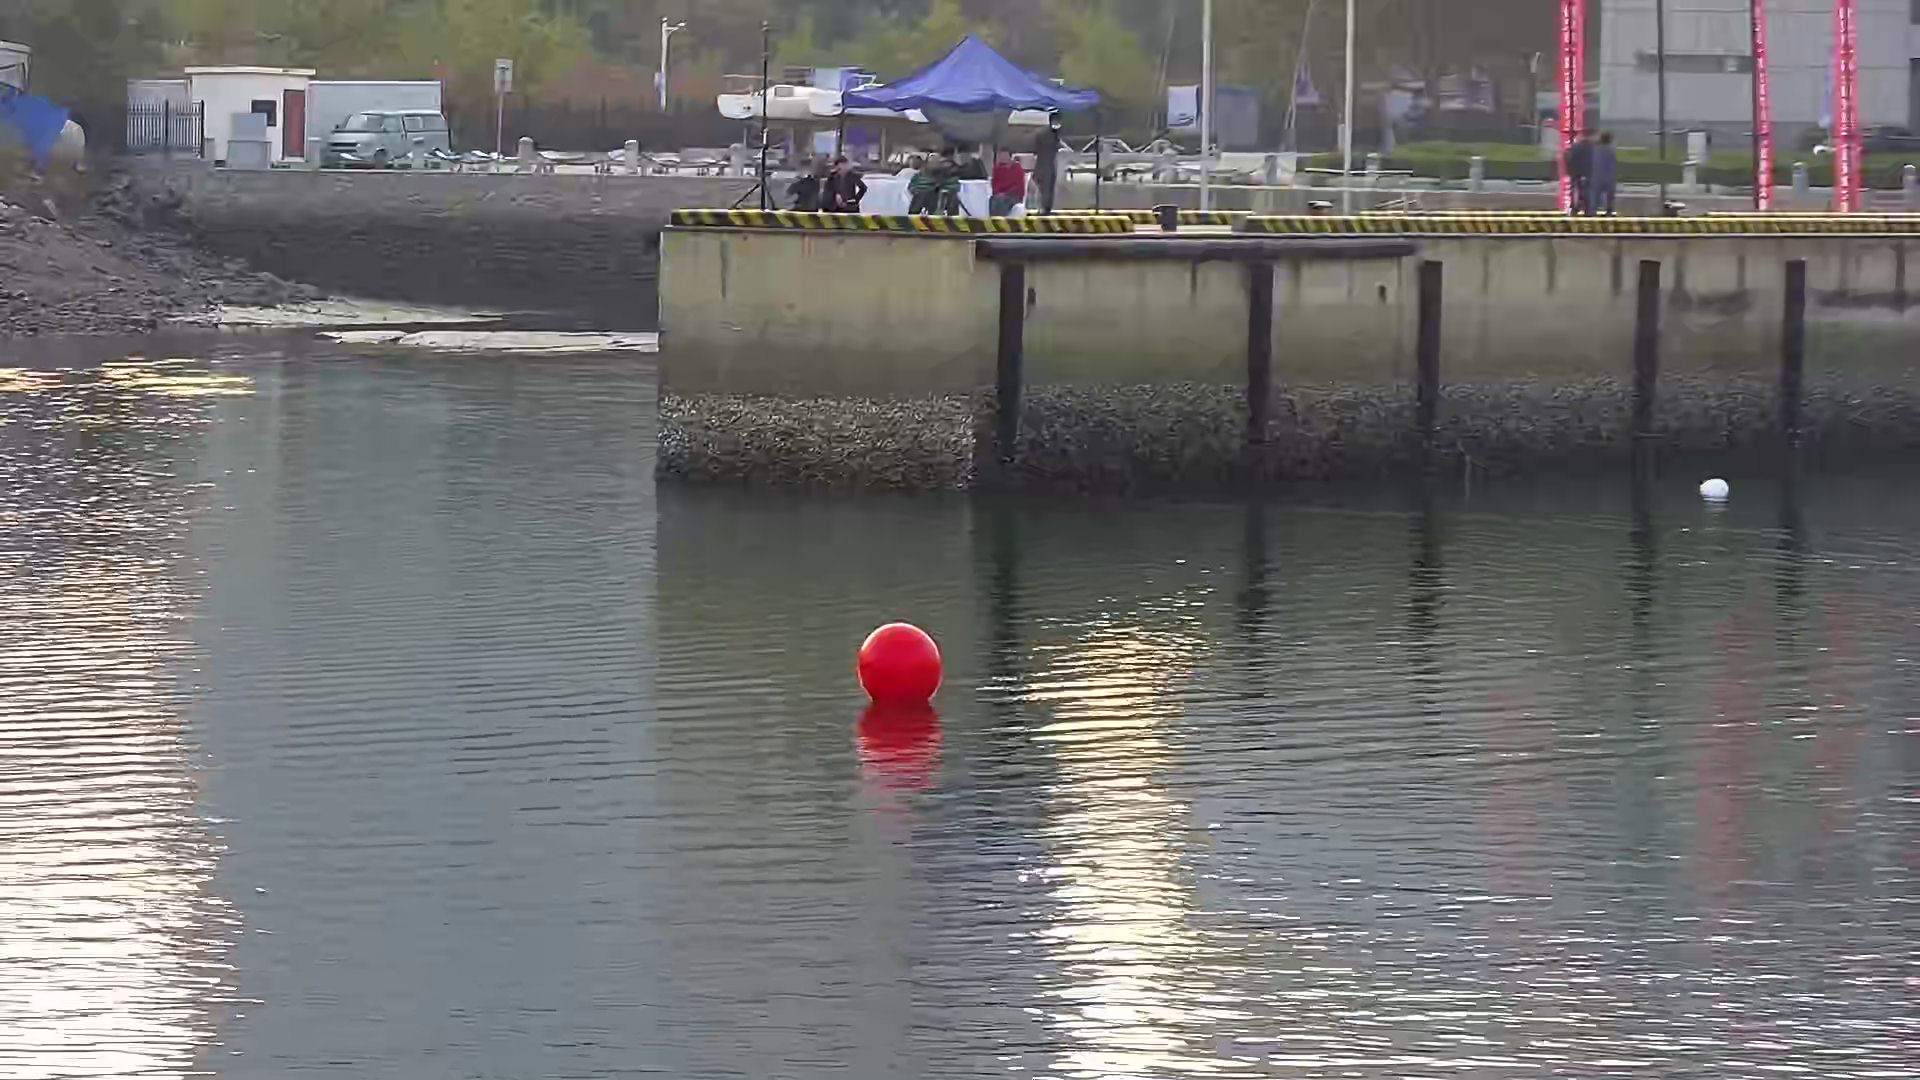ball: (855, 620, 949, 703)
rubbish: (1697, 477, 1733, 502)
